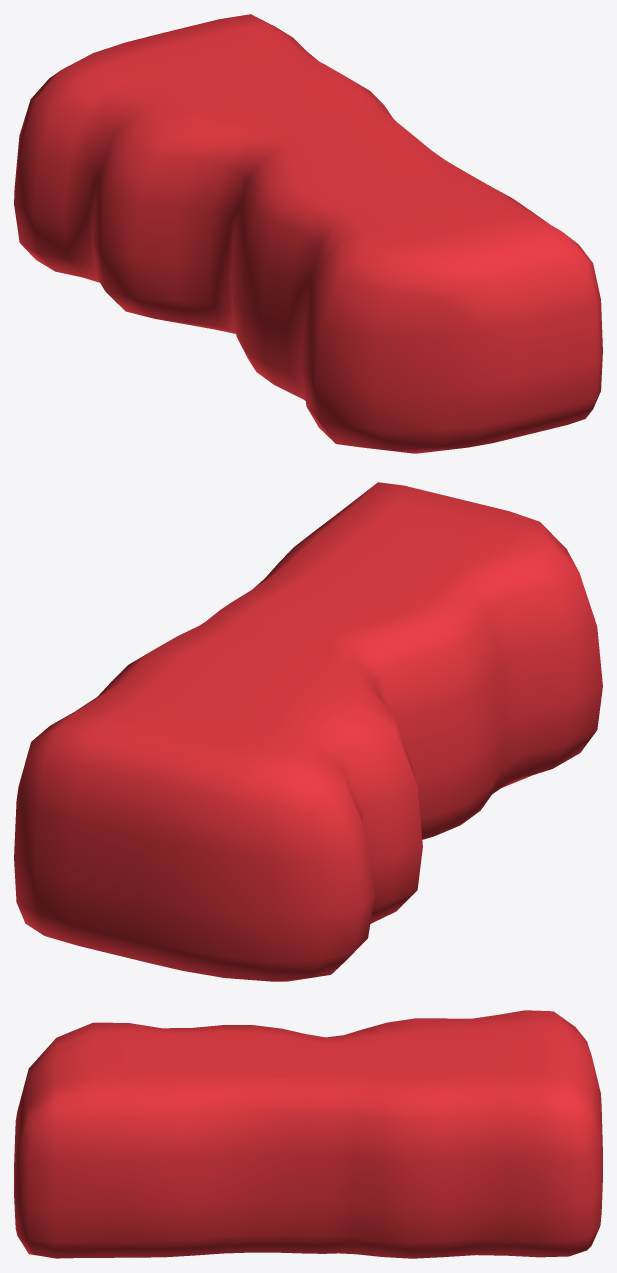
File: Tejido3.fbx
3 renders of one model, top to bottom at view 1: azimuth 30°, elevation 25°; view 2: azimuth 150°, elevation 25°; view 3: azimuth 270°, elevation 25°, orthographic. The views are drawn at different scales.
Parts seen in each view (by area): view 1: Tejido3; view 2: Tejido3; view 3: Tejido3.
Boxes of the visible parts, x1=… form: Tejido3: x1=14, y1=14, x2=602, y2=453; Tejido3: x1=14, y1=482, x2=602, y2=981; Tejido3: x1=14, y1=1010, x2=602, y2=1258.
Bounding box in the file's own units: 1.59 × 1 × 3.2.
